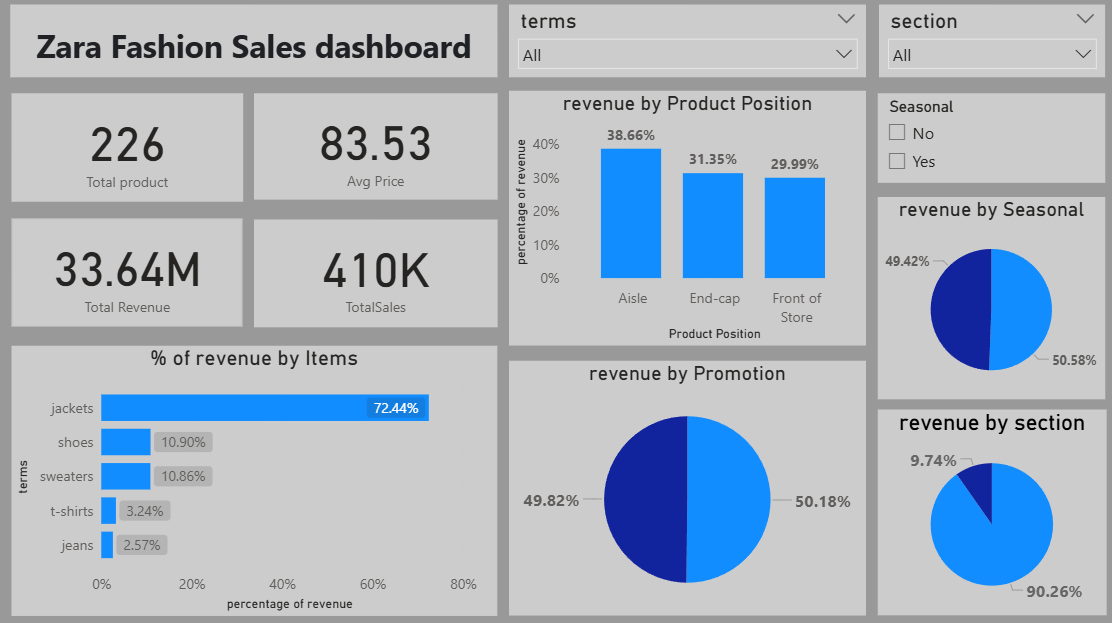

Layout of this report page (visuals, bound fields, positions):
{"tool":"powerbi","page":{"name":"Page 1","canvas":[1280,720],"ordinal":0},"visuals":[{"type":"pieChart","title":"revenue by section","fields":{"Category":["Zara_Sales_Analysis.section"],"Y":["Zara_Sales_Analysis.percentahe of revenue"]},"box":[1003.9,471.5,261.2,235.1],"z":0},{"type":"pieChart","title":"revenue by Seasonal","fields":{"Y":["Zara_Sales_Analysis.percentahe of revenue"],"Category":["Zara_Sales_Analysis.Seasonal"]},"box":[1003.9,228.9,260,231.4],"z":1000},{"type":"barChart","title":"% of revenue by Items","fields":{"Y":["Zara_Sales_Analysis.percentahe of revenue"],"Category":["Zara_Sales_Analysis.terms"]},"box":[14.9,398.1,554.8,308.5],"z":2000},{"type":"pieChart","title":"revenue by Promotion","fields":{"Y":["Zara_Sales_Analysis.percentahe of revenue"],"Category":["Zara_Sales_Analysis.Promotion"]},"box":[583.4,415.5,408,291.1],"z":3000},{"type":"columnChart","title":"revenue by Product Position","fields":{"Category":["Zara_Sales_Analysis.Product Position"],"Y":["Zara_Sales_Analysis.percentahe of revenue"]},"box":[583.4,107,408,291.1],"z":4000},{"type":"slicer","fields":{"Values":["Zara_Sales_Analysis.section"]},"box":[1005.1,8.7,258.7,83.3],"z":5000},{"type":"card","fields":{"Values":["Zara_Sales_Analysis.TotalSales"]},"box":[291.1,253.8,278.6,123.2],"z":6000},{"type":"card","fields":{"Values":["Zara_Sales_Analysis.Total Revenue"]},"box":[14.9,252.5,263.7,124.4],"z":7000},{"type":"slicer","fields":{"Values":["Zara_Sales_Analysis.terms"]},"box":[583.3,8.3,408.3,83.3],"z":8000},{"type":"card","fields":{"Values":["Zara_Sales_Analysis.Avg Price"]},"box":[291.1,110.7,278.6,121.9],"z":9000},{"type":"slicer","fields":{"Values":["Zara_Sales_Analysis.Seasonal"]},"box":[1003.9,110.7,260,102],"z":10000},{"type":"card","fields":{"Values":["Zara_Sales_Analysis.Total product"]},"box":[13.7,110.7,265,124.4],"z":11000},{"type":"textbox","box":[13.3,8.3,556.7,83.3],"z":12000}]}

Visuals, with their boxes in screenshot pixels (x1, y1, x2, y2), scaled from the page's 1280x720 canvas onto the 1112x623 screenshot:
"revenue by section" pieChart: x1=872, y1=408, x2=1099, y2=611
"revenue by Seasonal" pieChart: x1=872, y1=198, x2=1098, y2=398
"% of revenue by Items" barChart: x1=13, y1=344, x2=495, y2=611
"revenue by Promotion" pieChart: x1=507, y1=360, x2=861, y2=611
"revenue by Product Position" columnChart: x1=507, y1=93, x2=861, y2=344
slicer - Zara_Sales_Analysis.section: x1=873, y1=8, x2=1098, y2=80
card - Zara_Sales_Analysis.TotalSales: x1=253, y1=220, x2=495, y2=326
card - Zara_Sales_Analysis.Total Revenue: x1=13, y1=218, x2=242, y2=326
slicer - Zara_Sales_Analysis.terms: x1=507, y1=7, x2=861, y2=79
card - Zara_Sales_Analysis.Avg Price: x1=253, y1=96, x2=495, y2=201
slicer - Zara_Sales_Analysis.Seasonal: x1=872, y1=96, x2=1098, y2=184
card - Zara_Sales_Analysis.Total product: x1=12, y1=96, x2=242, y2=203
textbox: x1=12, y1=7, x2=495, y2=79
